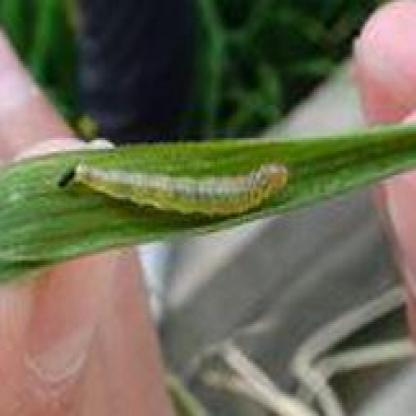leaf-folder: (58, 144, 308, 238)
